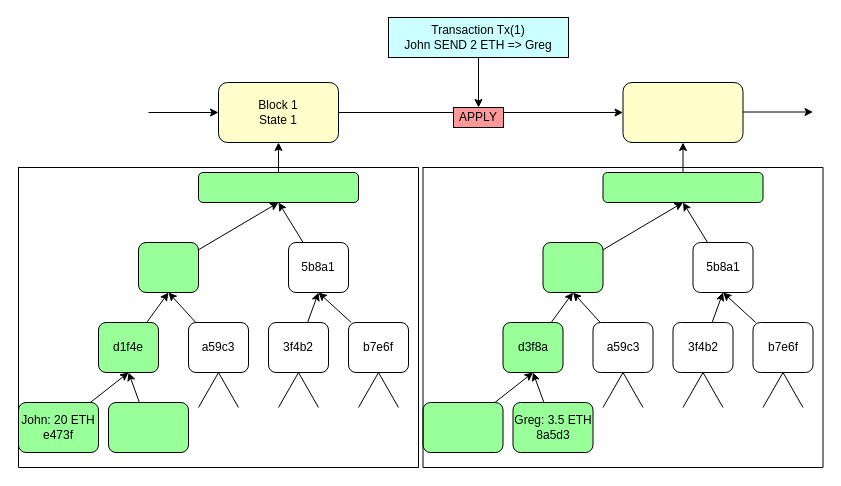
Image size: 841x486. Some labels were removed from this diagram. Each missing label, with the centre of its shape:
"8c7d2" belongs at pixel 572 267.
"9d2e7" belongs at pixel 168 267.
"Block 2 State 2" belongs at pixel 682 112.
"Greg: 1.5 ETH 2c9b7" belongs at pixel 148 427.
"John: 18 ETH 9c7b2" belongs at pixel 462 427.
"State Header a3f1c" belongs at pixel 278 187.
"State Header e7c4b" belongs at pixel 682 187.
